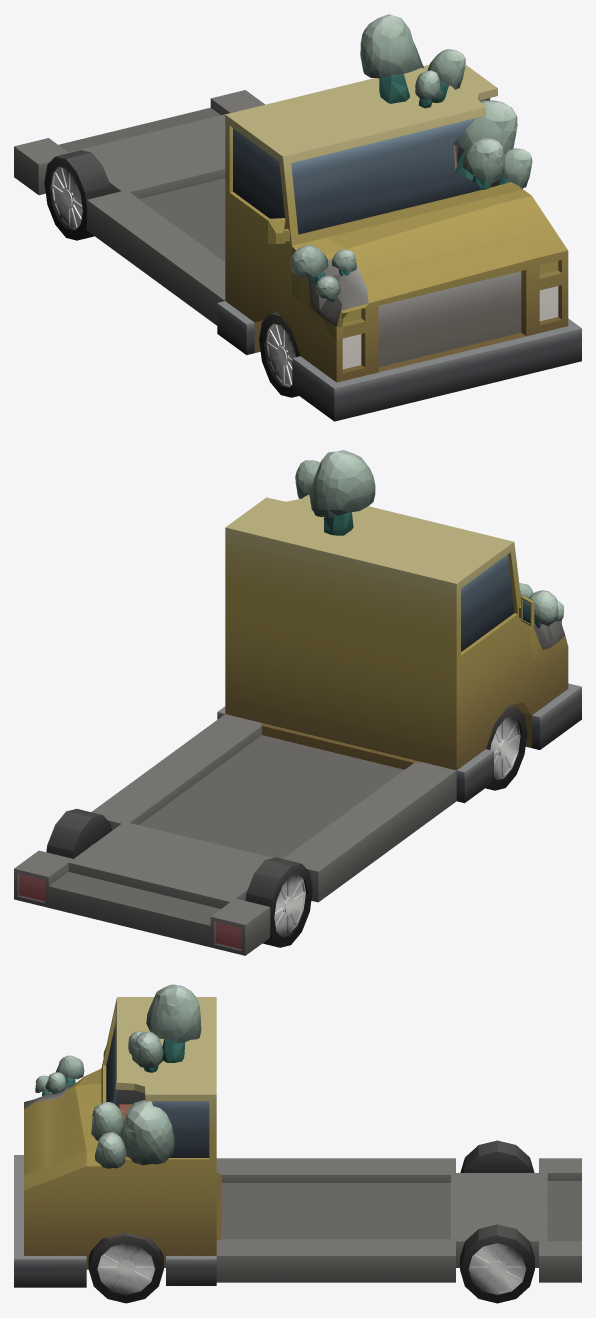
File: Truck_Infested_Truck_02.fbx
The picture shows the model from 3 angles, top to bottom: view 1: azimuth 30°, elevation 25°; view 2: azimuth 150°, elevation 25°; view 3: azimuth 270°, elevation 25°; orthographic projection. The views are drawn at different scales.
Parts seen in each view (by area): view 1: Mushroom_01:Top_18; view 2: Mushroom_01:Top_18; view 3: Mushroom_01:Top_18.
Boxes of the visible parts, box(x1,y1,x2,y2) form: Mushroom_01:Top_18: box(14, 14, 581, 421); Mushroom_01:Top_18: box(14, 450, 581, 955); Mushroom_01:Top_18: box(14, 984, 581, 1303).
Bounding box in the file's own units: 268 × 311 × 572.
